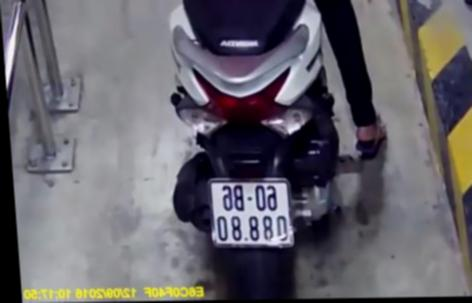License_Plate: (199, 175, 300, 248)
